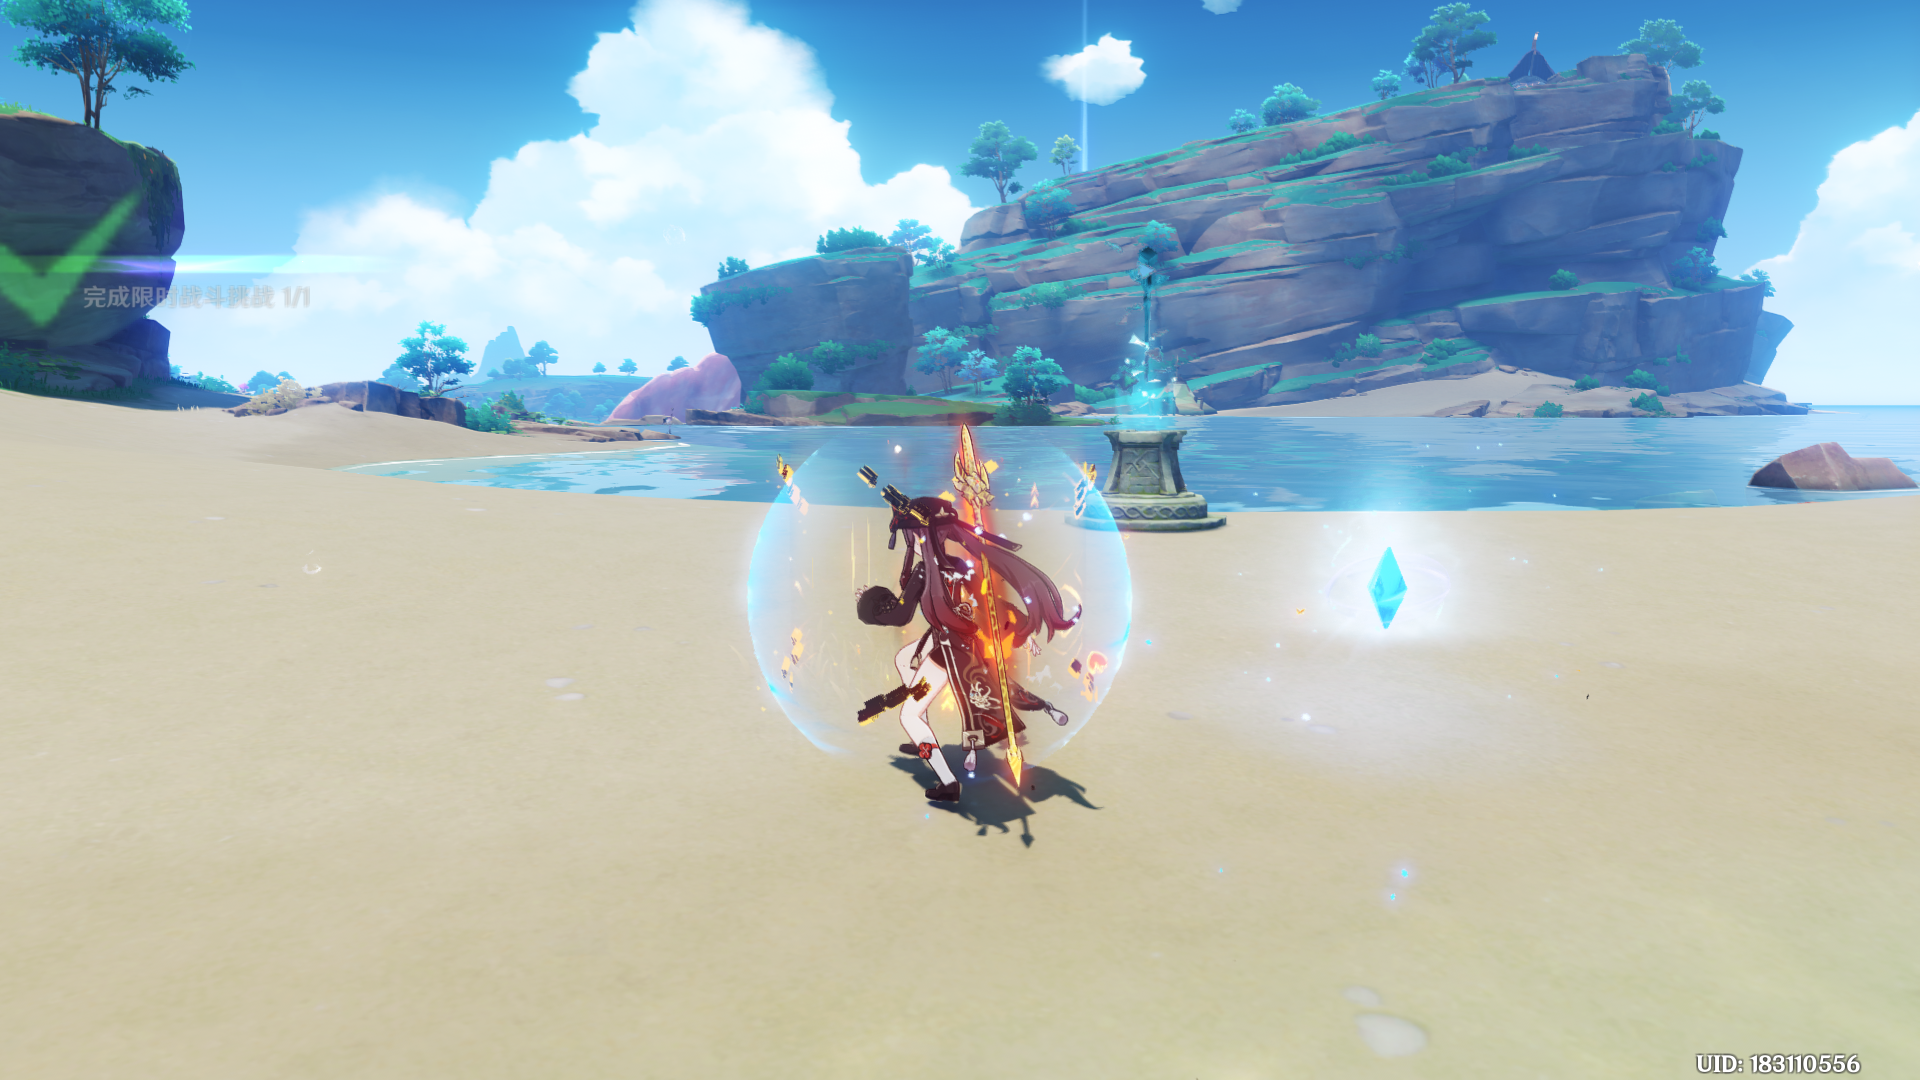character: (775, 405, 1168, 887)
